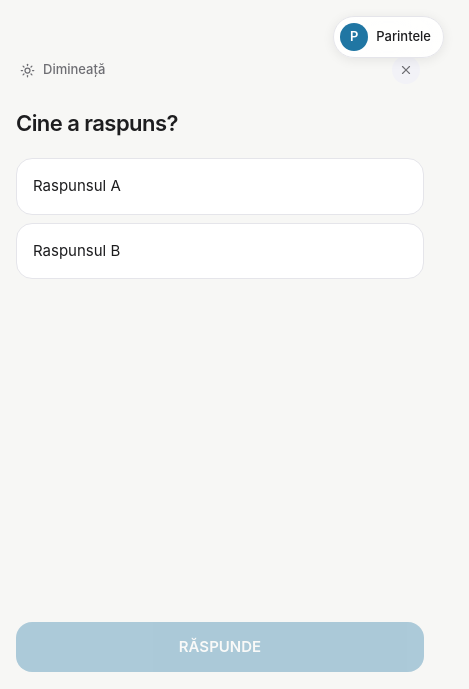
R2 regression: Discover selection does not leak across a profile switch › a selection made as Parent is cleared (not shown pre-selected) after switching to Child, before Child clicks anything
This screenshot has width=469, height=689.
Check: the heading "Cine a raspuns?" is shown, box [16,110,178,136]
Click the button "Raspunsul A". click: (77, 186)
box: [16,158,424,215]
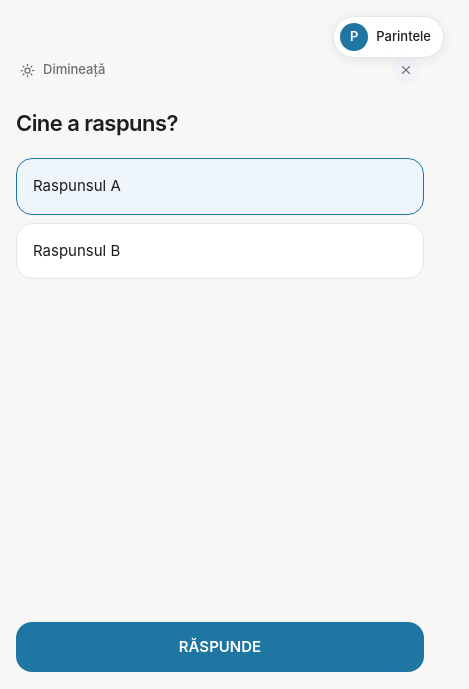
Click the button with aria-label "profil". click: (389, 37)
box: [333,16,444,58]
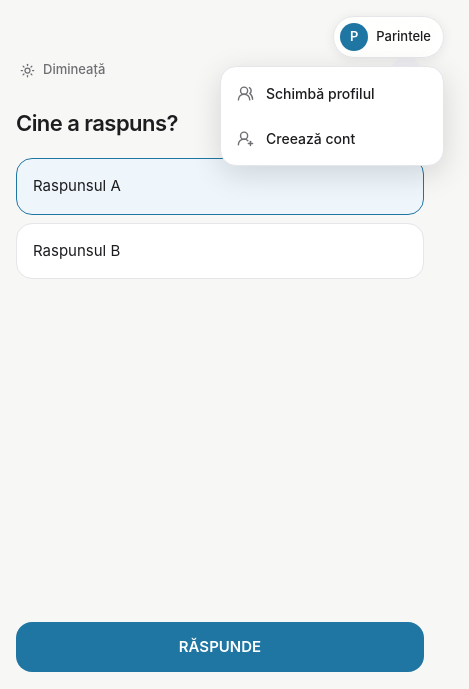
Click the button "Schimbă profilul". click: (332, 94)
box: [221,71,443,116]
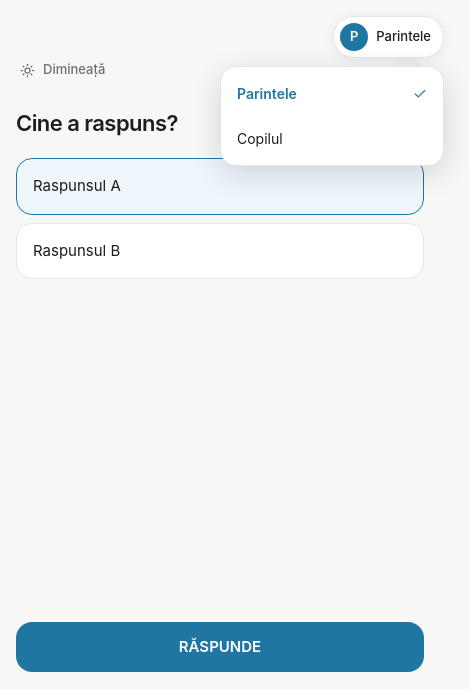
Click the button "Copilul". click: (332, 138)
box: [221,116,443,161]
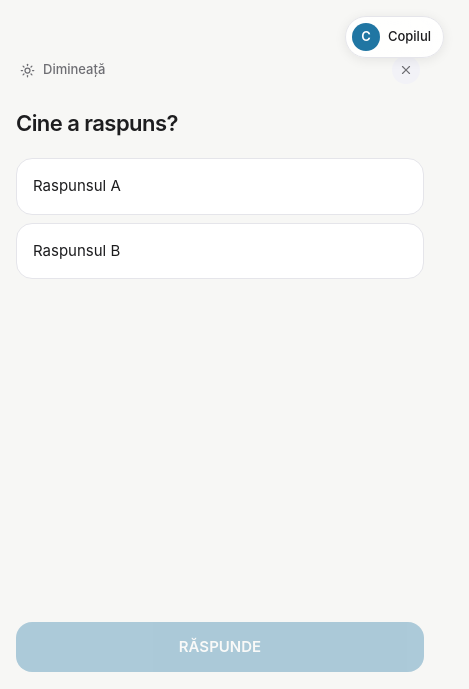
Check: the text "Copilul" is shown, box [388,27,431,47]
Check: the button "RĂSPUNDE" is disabled, box [16,622,424,672]
